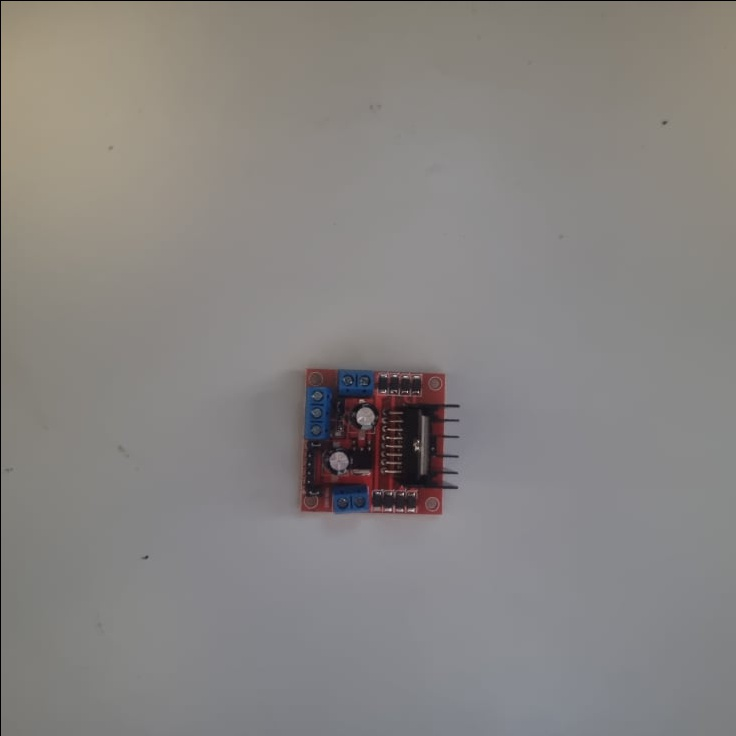MOTOR: (299, 362, 458, 516)
